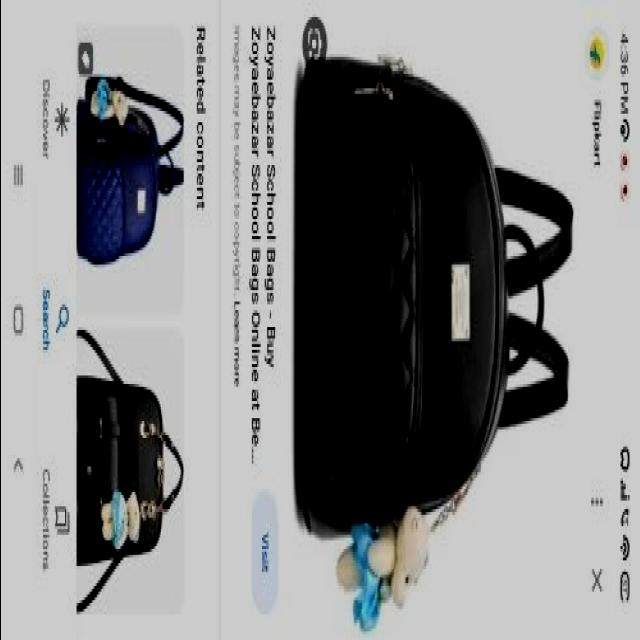backpack: (298, 18, 574, 544), (77, 329, 185, 613), (77, 75, 186, 265)
